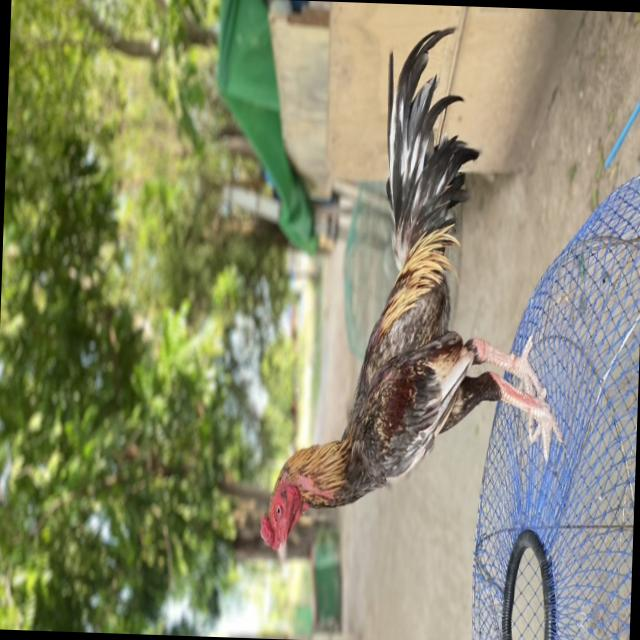Healthy: (247, 26, 584, 596), (354, 12, 494, 310), (251, 428, 320, 588)
